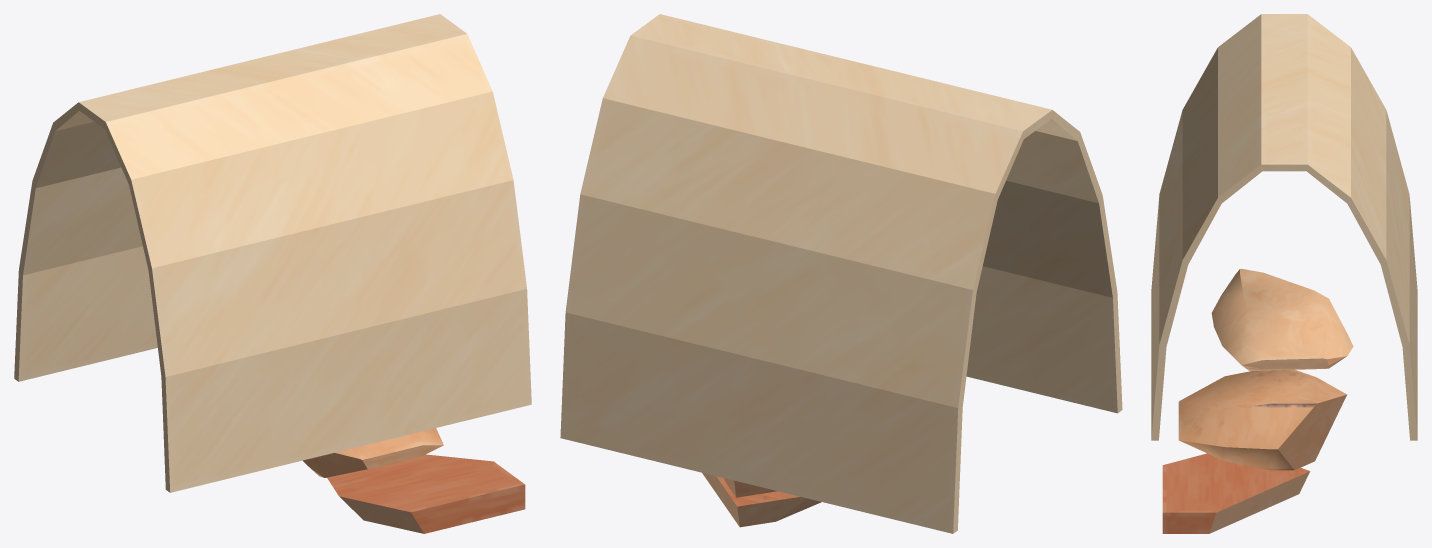
The model's file is cart_s06.fbx.
3 renders of one model, left to right at view 1: azimuth 30°, elevation 25°; view 2: azimuth 150°, elevation 25°; view 3: azimuth 270°, elevation 25°, orthographic. The views are drawn at different scales.
Visible parts, largest first — view 1: cart_s06; view 2: cart_s06; view 3: cart_s06.
Boxes of the visible parts, left/top/right/bottom form: cart_s06: left=14, top=14, right=531, bottom=533; cart_s06: left=560, top=14, right=1122, bottom=533; cart_s06: left=1151, top=14, right=1417, bottom=533.
Size of the model in its own units: 3.8 by 4.35 by 2.84.
